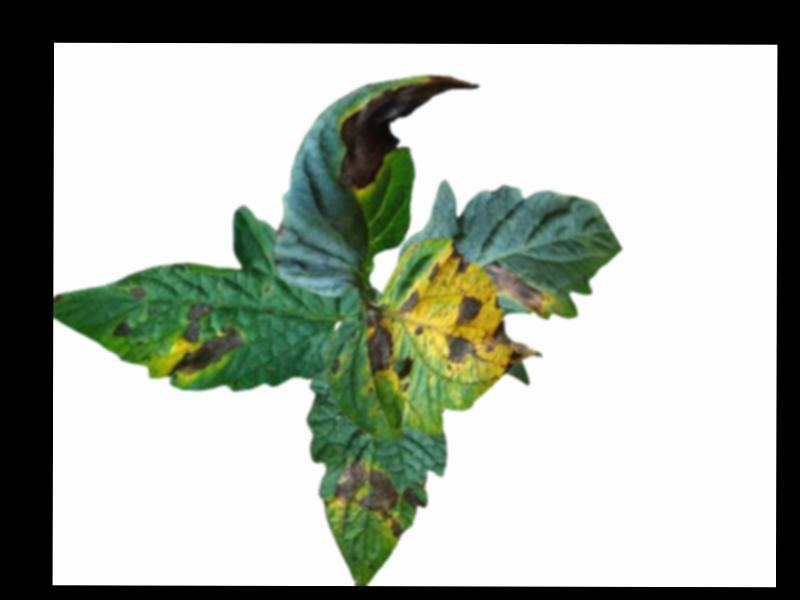Early_blight: (338, 73, 479, 189), (332, 456, 404, 538), (168, 301, 242, 376), (482, 258, 552, 315), (479, 319, 541, 375), (362, 300, 395, 374), (445, 331, 475, 366), (455, 293, 481, 325), (399, 287, 422, 314), (446, 246, 468, 274), (403, 485, 425, 510), (112, 316, 133, 337), (427, 259, 442, 279), (129, 285, 148, 297), (330, 355, 341, 374), (413, 324, 424, 337)
